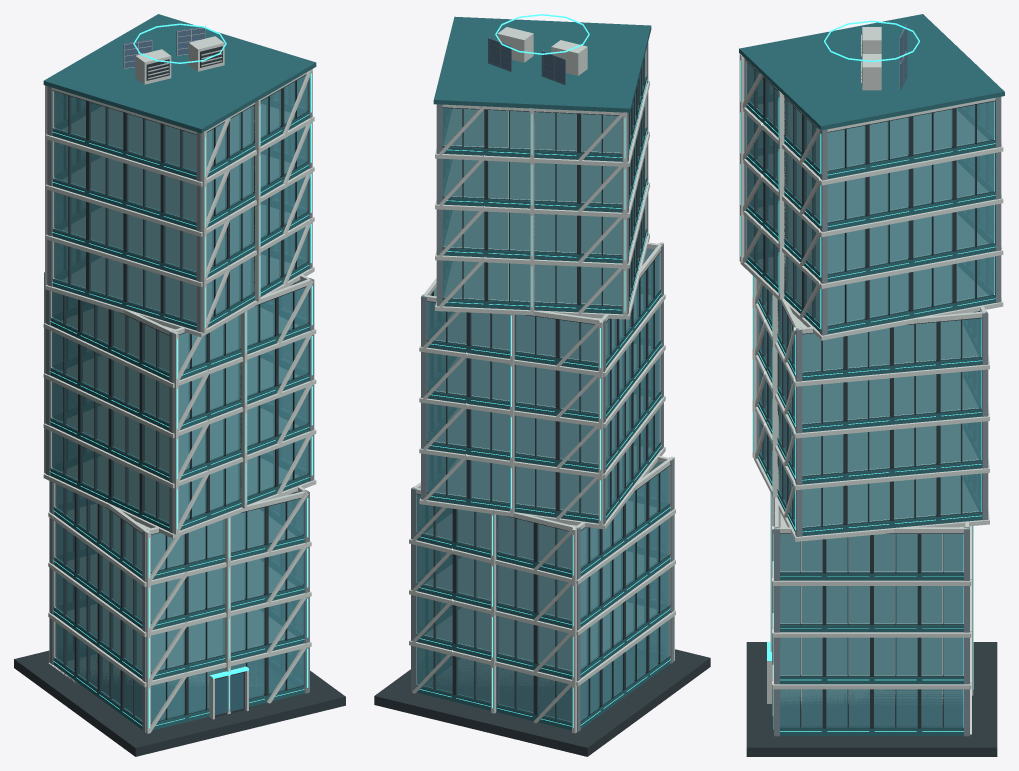
File: Spire_Helix_12F.glb
3 views of the same model, side by side, from view 1: azimuth 30°, elevation 25°; view 2: azimuth 150°, elevation 25°; view 3: azimuth 270°, elevation 25° (orthographic). The views are drawn at different scales.
Visible parts, largest first — view 1: Spire_Helix_12F__Roof_Coping_Unit, Spire_Helix_12F__Plinth_Unit, Spire_Helix_12F__Entry_Airlock, Spire_Helix_12F__Floor_Slab_Unit.003, Spire_Helix_12F__Floor_Slab_Unit.007, Spire_Helix_12F__Floor_Slab_Unit.001, Spire_Helix_12F__Floor_Slab_Unit.002, Spire_Helix_12F__Floor_Slab_Unit.005, Spire_Helix_12F__Floor_Slab_Unit.006, Spire_Helix_12F__Floor_Slab_Unit.011, Spire_Helix_12F__Floor_Slab_Unit.010, Spire_Helix_12F__Floor_Slab_Unit.009 (+119 smaller); view 2: Spire_Helix_12F__Roof_Coping_Unit, Spire_Helix_12F__Plinth_Unit, Spire_Helix_12F__Floor_Slab_Unit.003, Spire_Helix_12F__Facade_Glazing_3m.185, Spire_Helix_12F__Facade_Glazing_3m.169, Spire_Helix_12F__Floor_Slab_Unit.001, Spire_Helix_12F__Facade_Glazing_3m.153, Spire_Helix_12F__Facade_Glazing_3m.137, Spire_Helix_12F__Floor_Slab_Unit.002, Spire_Helix_12F__Floor_Slab_Unit.007, Spire_Helix_12F__Facade_Glazing_3m.186, Spire_Helix_12F__Facade_Glazing_3m.170 (+91 smaller); view 3: Spire_Helix_12F__Roof_Coping_Unit, Spire_Helix_12F__Plinth_Unit, Spire_Helix_12F__Floor_Slab_Unit.007, Spire_Helix_12F__Floor_Slab_Unit.011, Spire_Helix_12F__Floor_Slab_Unit.009, Spire_Helix_12F__Floor_Slab_Unit.003, Spire_Helix_12F__Floor_Slab_Unit.010, Spire_Helix_12F__Facade_Glazing_3m.013, Spire_Helix_12F__Facade_Glazing_3m.014, Spire_Helix_12F__Facade_Glazing_3m.029, Spire_Helix_12F__Facade_Glazing_3m.030, Spire_Helix_12F__Facade_Glazing_3m.045 (+112 smaller).
Boxes of the visible parts, bbox=[...] form: Spire_Helix_12F__Roof_Coping_Unit: bbox=[43, 14, 316, 133]; Spire_Helix_12F__Plinth_Unit: bbox=[14, 650, 345, 756]; Spire_Helix_12F__Entry_Airlock: bbox=[209, 666, 248, 719]; Spire_Helix_12F__Floor_Slab_Unit.003: bbox=[48, 512, 311, 586]; Spire_Helix_12F__Floor_Slab_Unit.007: bbox=[43, 323, 316, 387]; Spire_Helix_12F__Floor_Slab_Unit.001: bbox=[48, 612, 311, 687]; Spire_Helix_12F__Floor_Slab_Unit.002: bbox=[48, 562, 311, 636]; Spire_Helix_12F__Floor_Slab_Unit.005: bbox=[43, 423, 316, 488]; Spire_Helix_12F__Floor_Slab_Unit.006: bbox=[43, 373, 316, 438]; Spire_Helix_12F__Floor_Slab_Unit.011: bbox=[45, 116, 314, 186]; Spire_Helix_12F__Floor_Slab_Unit.010: bbox=[45, 166, 314, 236]; Spire_Helix_12F__Floor_Slab_Unit.009: bbox=[45, 217, 314, 286]; Spire_Helix_12F__Roof_Coping_Unit: bbox=[433, 16, 651, 112]; Spire_Helix_12F__Plinth_Unit: bbox=[374, 649, 710, 756]; Spire_Helix_12F__Floor_Slab_Unit.003: bbox=[409, 509, 675, 584]; Spire_Helix_12F__Facade_Glazing_3m.185: bbox=[534, 112, 576, 150]; Spire_Helix_12F__Facade_Glazing_3m.169: bbox=[534, 163, 576, 201]; Spire_Helix_12F__Floor_Slab_Unit.001: bbox=[409, 610, 675, 686]; Spire_Helix_12F__Facade_Glazing_3m.153: bbox=[534, 213, 576, 252]; Spire_Helix_12F__Facade_Glazing_3m.137: bbox=[534, 264, 576, 303]; Spire_Helix_12F__Floor_Slab_Unit.002: bbox=[409, 559, 675, 635]; Spire_Helix_12F__Floor_Slab_Unit.007: bbox=[419, 294, 665, 376]; Spire_Helix_12F__Facade_Glazing_3m.186: bbox=[488, 110, 530, 148]; Spire_Helix_12F__Facade_Glazing_3m.170: bbox=[488, 161, 530, 199]; Spire_Helix_12F__Roof_Coping_Unit: bbox=[739, 14, 1004, 130]; Spire_Helix_12F__Plinth_Unit: bbox=[746, 642, 997, 756]; Spire_Helix_12F__Floor_Slab_Unit.007: bbox=[755, 303, 989, 386]; Spire_Helix_12F__Floor_Slab_Unit.011: bbox=[743, 107, 1003, 185]; Spire_Helix_12F__Floor_Slab_Unit.009: bbox=[743, 210, 1003, 288]; Spire_Helix_12F__Floor_Slab_Unit.003: bbox=[772, 513, 971, 585]; Spire_Helix_12F__Floor_Slab_Unit.010: bbox=[743, 159, 1003, 237]; Spire_Helix_12F__Facade_Glazing_3m.013: bbox=[826, 689, 869, 726]; Spire_Helix_12F__Facade_Glazing_3m.014: bbox=[874, 689, 917, 726]; Spire_Helix_12F__Facade_Glazing_3m.029: bbox=[826, 637, 869, 674]; Spire_Helix_12F__Facade_Glazing_3m.030: bbox=[874, 637, 917, 674]; Spire_Helix_12F__Facade_Glazing_3m.045: bbox=[826, 586, 869, 623].
Size of the model in its own units: 16.77 by 46.18 by 16.77.
